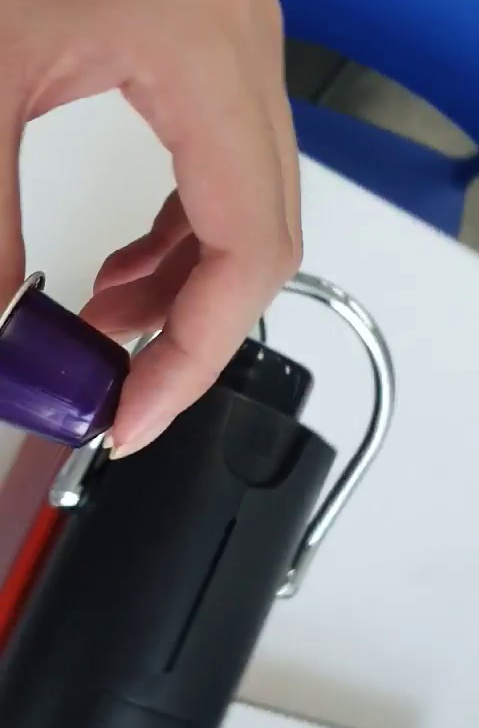capsule_11: (1, 271, 129, 450)
